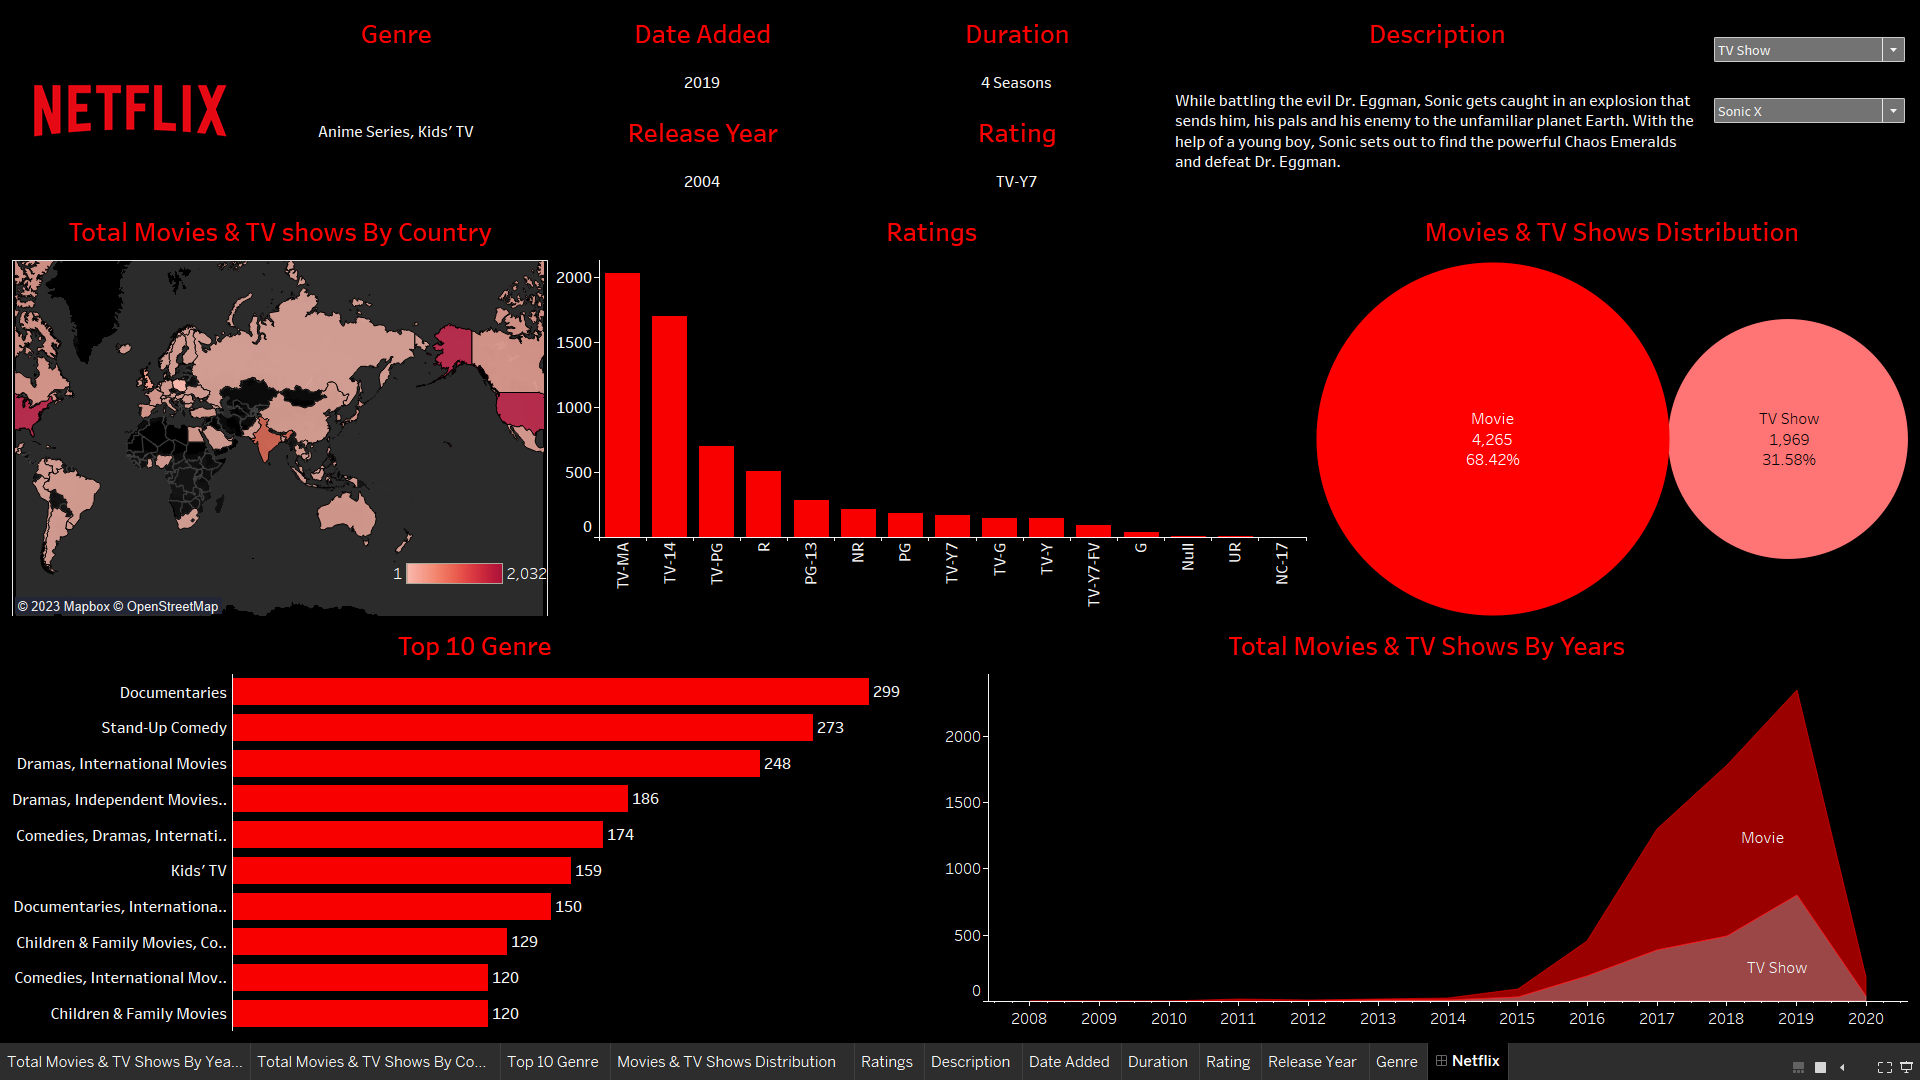

This screenshot's page, from the dashboard's own definition file:
{"tool":"tableau","page":{"name":"Netflix","canvas":[1000,1000],"units":"permille","ordinal":0},"visuals":[{"type":"image","box":[5.4,14.5,126.6,187.2]},{"type":"worksheet","title":"Genre","mark":"Automatic","box":[131.9,14.5,149.5,187.2]},{"type":"worksheet","title":"Date Added","mark":"Automatic","box":[281.4,14.5,170,93.6]},{"type":"worksheet","title":"Duration","mark":"Automatic","box":[451.5,14.5,156.1,93.6]},{"type":"worksheet","title":"Description","mark":"Automatic","box":[607.6,14.5,280.6,187.2]},{"type":"filter","title":"Description","param":"[federated.0434jqi0wksdbp130aq2c1hnzzvc].[none:type:nk]","box":[888.2,14.5,106.4,93.6]},{"type":"worksheet","title":"Release Year","mark":"Automatic","box":[281.4,108.1,170,93.6]},{"type":"worksheet","title":"Rating","mark":"Automatic","box":[451.5,108.1,156.1,93.6]},{"type":"filter","title":"Description","param":"[federated.0434jqi0wksdbp130aq2c1hnzzvc].[none:title:nk]","box":[888.2,108.1,106.4,93.6]},{"type":"worksheet","title":"Total Movies & TV Shows By Country","mark":"Multipolygon","box":[5.4,201.7,365.8,391.9]},{"type":"worksheet","title":"Ratings","mark":"Automatic","rows":["show_id"],"cols":["rating"],"box":[371.2,201.7,311,391.9]},{"type":"worksheet","title":"Movies & TV Shows Distribution","mark":"Circle","box":[682.3,201.7,312.3,391.9]},{"type":"legend","title":"Total Movies & TV Shows By Country","param":"[federated.0434jqi0wksdbp130aq2c1hnzzvc].[ctd:show_id:qk]","box":[246.8,535.8,84.5,50.5]},{"type":"worksheet","title":"Top 10 Genre","mark":"Automatic","rows":["listed_in"],"cols":["show_id"],"box":[5.4,593.6,484.6,391.9]},{"type":"worksheet","title":"Total Movies & TV Shows By Years","mark":"Area","rows":["show_id"],"cols":["date_added"],"box":[490,593.6,504.6,391.9]}]}

Visuals, with their boxes on the dashboard's canvas, which has no fixed pixel size, in thousandths of its width and height (x1, y1, x2, y2). These are canvas units, not pixel positions in the 1920x1080 screenshot, which may show the page scaled, cropped or inside an application window:
image: 5, 14, 132, 202
"Genre" worksheet: 132, 14, 281, 202
"Date Added" worksheet: 281, 14, 451, 108
"Duration" worksheet: 452, 14, 608, 108
"Description" worksheet: 608, 14, 888, 202
"Description" filter: 888, 14, 995, 108
"Release Year" worksheet: 281, 108, 451, 202
"Rating" worksheet: 452, 108, 608, 202
"Description" filter: 888, 108, 995, 202
"Total Movies & TV Shows By Country" worksheet (Multipolygon marks): 5, 202, 371, 594
"Ratings" worksheet: 371, 202, 682, 594
"Movies & TV Shows Distribution" worksheet (Circle marks): 682, 202, 995, 594
"Total Movies & TV Shows By Country" legend: 247, 536, 331, 586
"Top 10 Genre" worksheet: 5, 594, 490, 986
"Total Movies & TV Shows By Years" worksheet (Area marks): 490, 594, 995, 986
